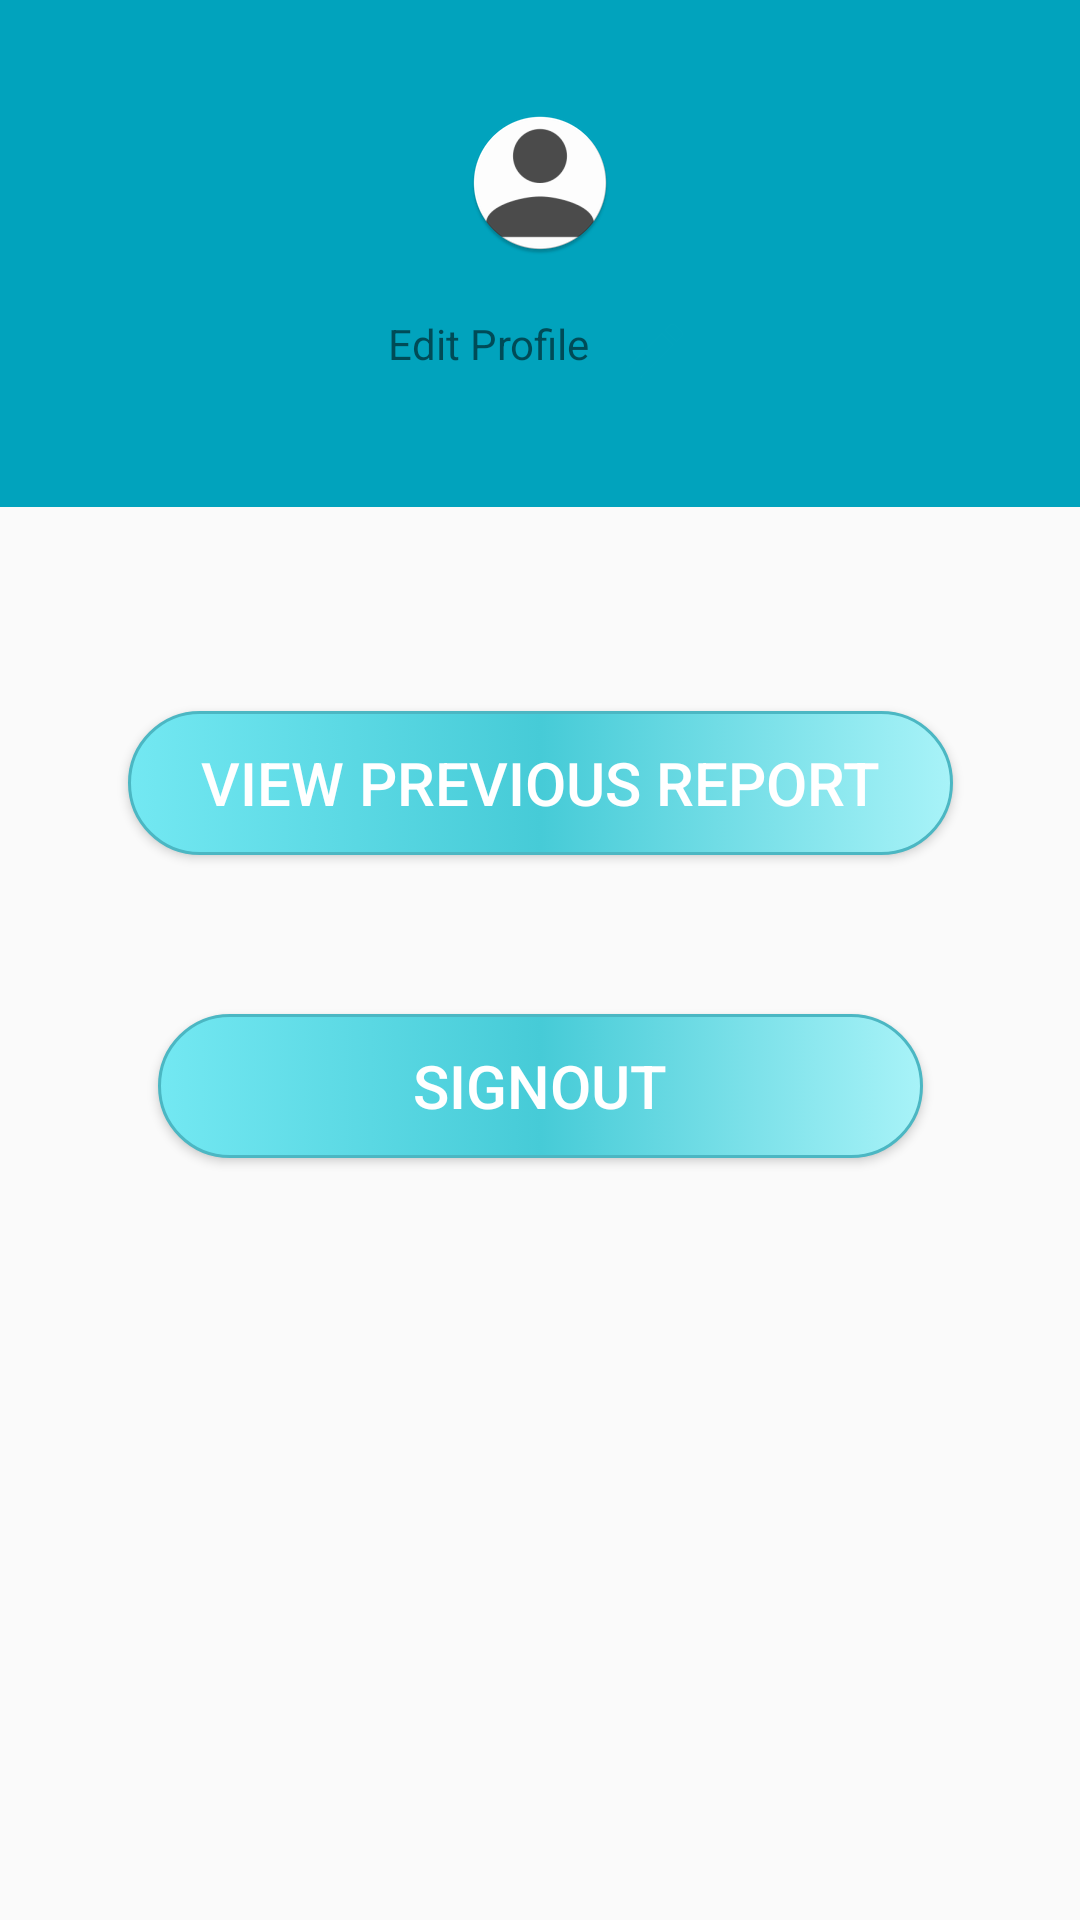

Named icons in this screenshot (1080px x 1920px) and their bounding boxes, (x1, y1, x2, y2):
profile round: (473, 116, 607, 252)
